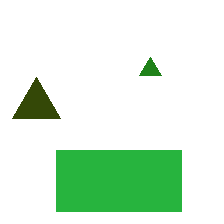rectangle: (56, 150, 181, 211)
triangle: (12, 77, 60, 118), (139, 57, 161, 75)
